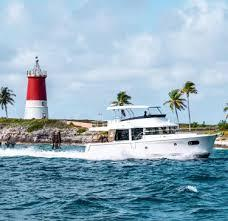Ship: (85, 106, 217, 161)
